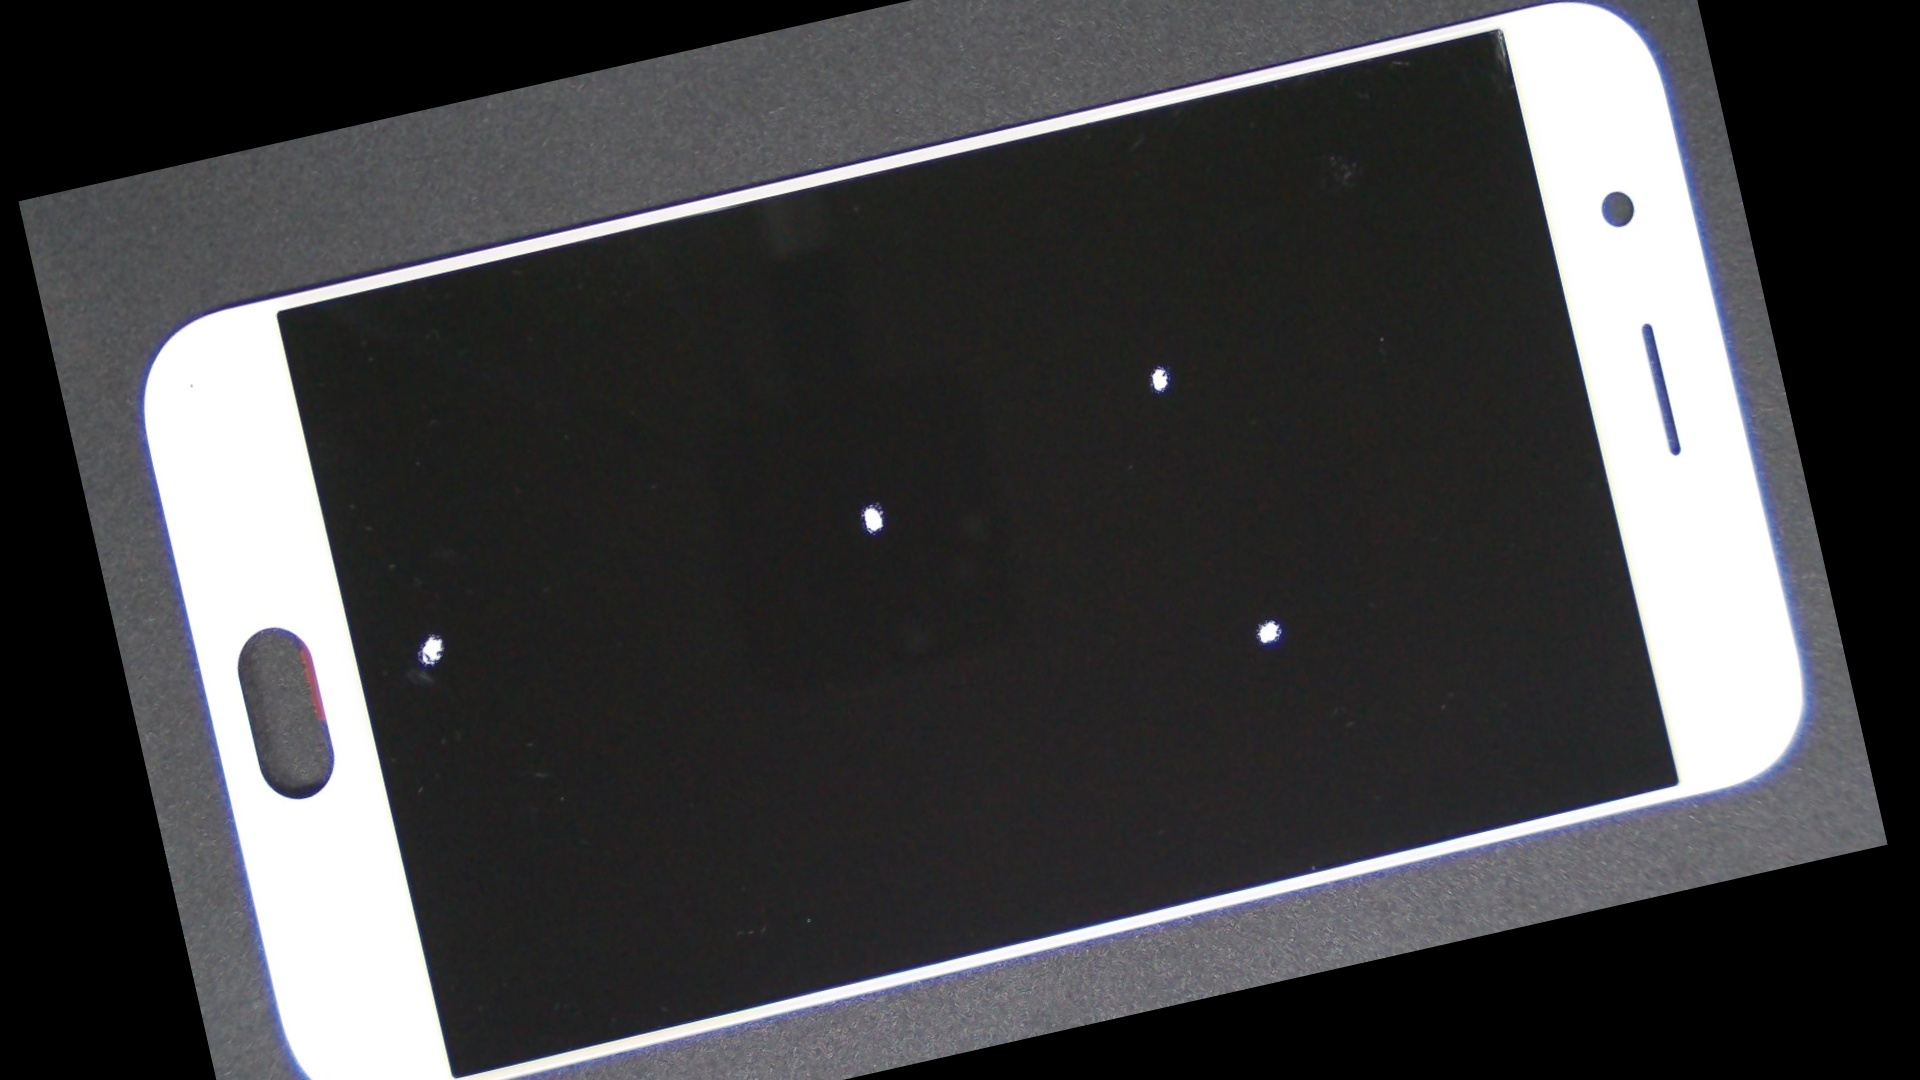oil: (642, 164, 1884, 1075), (587, 47, 1724, 683), (444, 183, 1295, 820), (224, 349, 636, 916)
